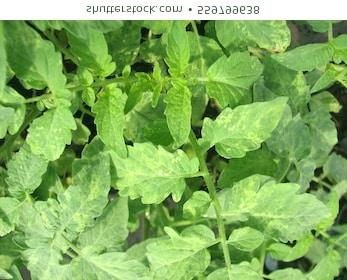Tomato leaf mosaic virus: (216, 176, 330, 243), (87, 143, 198, 207), (198, 94, 291, 159), (2, 24, 74, 99), (76, 190, 135, 261), (59, 153, 112, 230), (145, 222, 214, 277), (203, 49, 269, 105), (25, 94, 77, 165), (93, 83, 134, 160), (164, 81, 196, 150), (272, 40, 332, 76), (165, 21, 194, 79), (228, 225, 264, 251)
